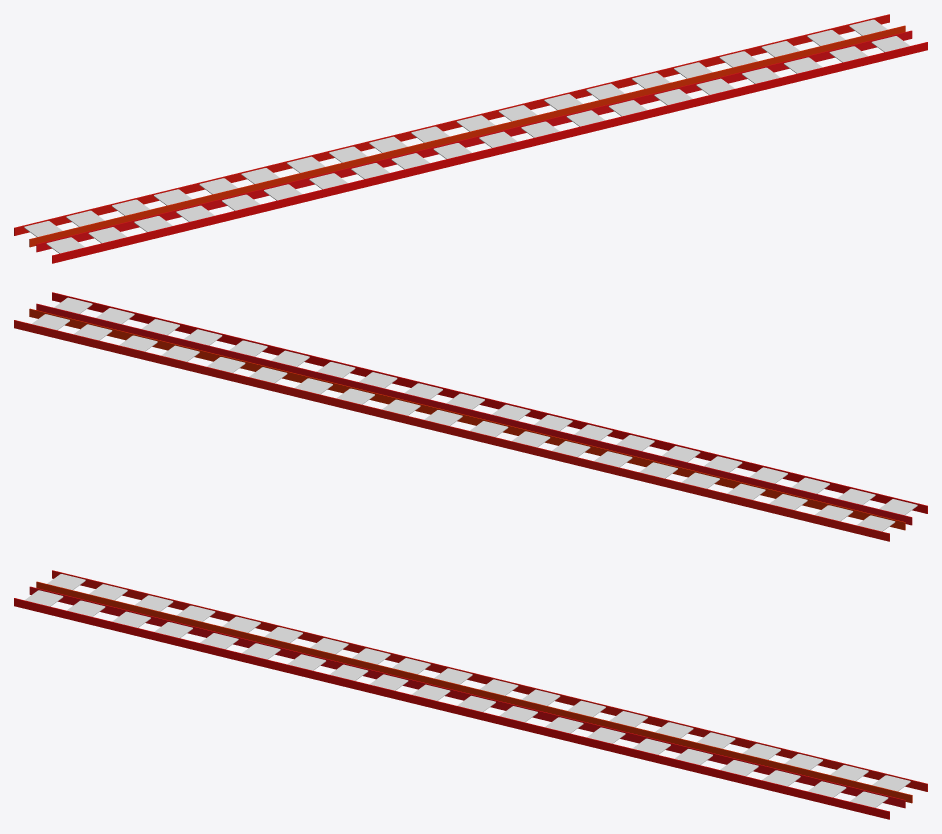
3 views of the same model, one above another, from view 1: azimuth 30°, elevation 25°; view 2: azimuth 150°, elevation 25°; view 3: azimuth 330°, elevation 25° (orthographic).
Parts seen in each view (by area): view 1: Cube.001_3, Cube.005_7, Cube.002_4, Cube_2, Cube.004_6, Cube.003_5; view 2: Cube.001_3, Cube.003_5, Cube.004_6, Cube_2, Cube.005_7, Cube.002_4; view 3: Cube.001_3, Cube.005_7, Cube.002_4, Cube_2, Cube.004_6, Cube.003_5.
Part boxes in pixels (x1=…): Cube.001_3: x1=369, y1=19, x2=909, y2=169; Cube.005_7: x1=52, y1=42, x2=927, y2=263; Cube.002_4: x1=29, y1=25, x2=905, y2=247; Cube_2: x1=24, y1=146, x2=389, y2=253; Cube.004_6: x1=36, y1=30, x2=912, y2=252; Cube.003_5: x1=14, y1=14, x2=889, y2=235; Cube.001_3: x1=32, y1=297, x2=572, y2=447; Cube.003_5: x1=14, y1=320, x2=889, y2=541; Cube.004_6: x1=36, y1=303, x2=912, y2=525; Cube_2: x1=552, y1=424, x2=917, y2=531; Cube.005_7: x1=52, y1=292, x2=927, y2=513; Cube.002_4: x1=29, y1=308, x2=905, y2=530; Cube.001_3: x1=369, y1=658, x2=910, y2=807; Cube.005_7: x1=14, y1=598, x2=889, y2=819; Cube.002_4: x1=36, y1=581, x2=912, y2=803; Cube_2: x1=25, y1=574, x2=390, y2=680; Cube.004_6: x1=29, y1=586, x2=905, y2=808; Cube.003_5: x1=52, y1=570, x2=927, y2=791.
Size of the model in its own units: 5310 by 45.8 by 403.
